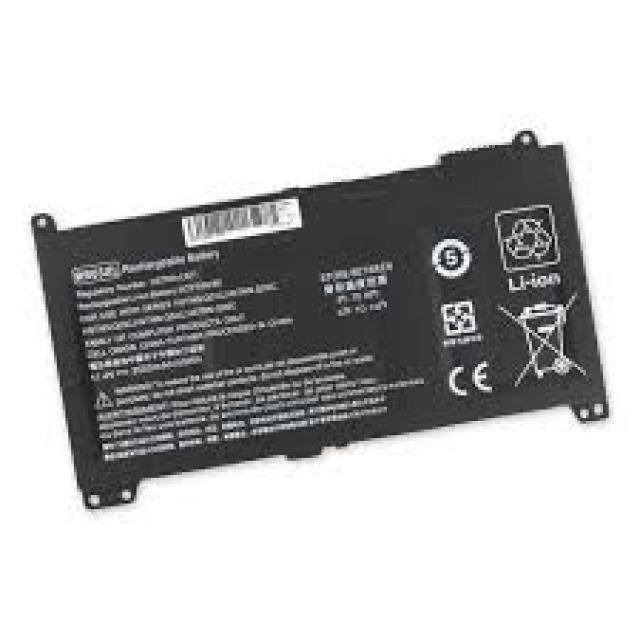battery: (31, 126, 620, 516)
